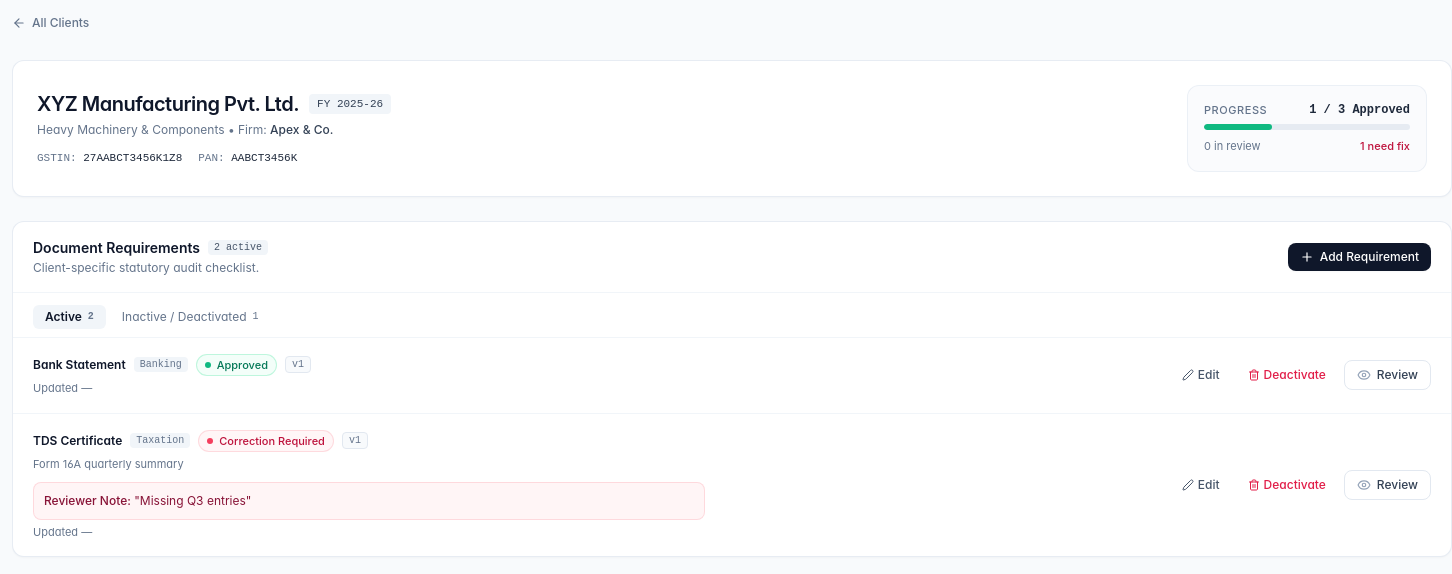
it: Document Requirements UI & Role Enforcement › allows Reviewers to switch to Inactive tab and see reactivate option
Check: the heading "XYZ Manufacturing Pvt. Ltd." is shown, box [37,90,299,118]
# Click Inactive tab
Click the button "Inactive / Deactivated 1" at (190, 316), box [110,304,271,328]
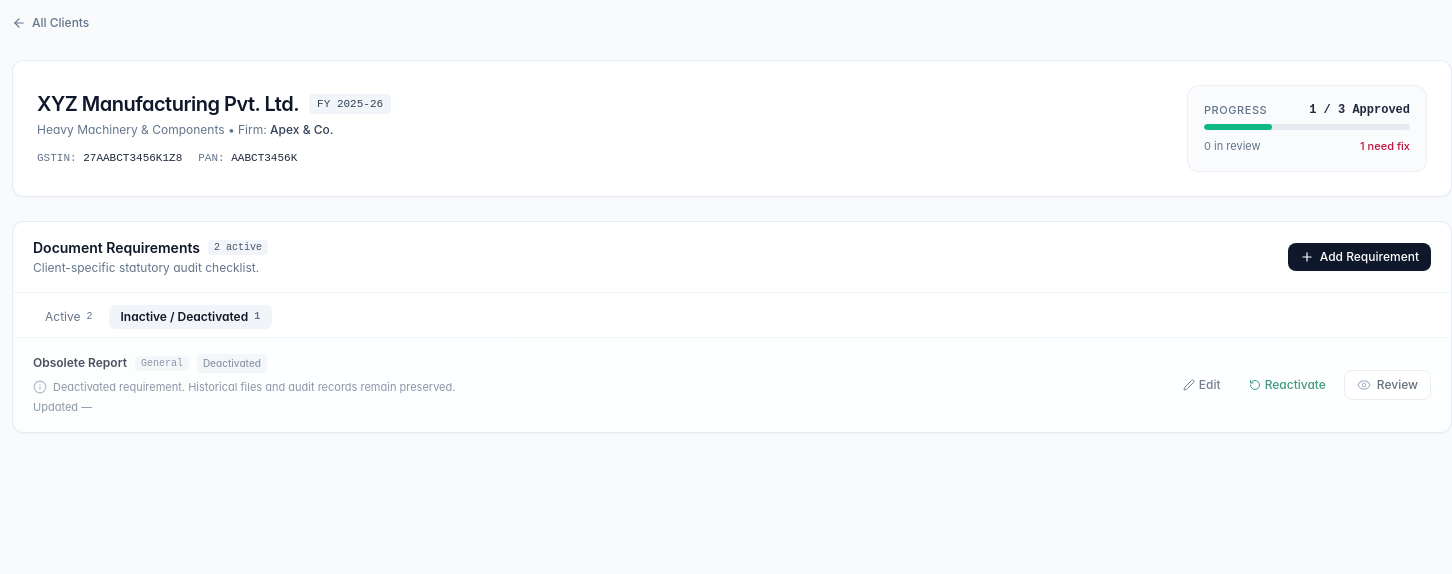
Check: the text "Obsolete Report" is shown, box [33,355,127,371]
Check: the button "Reactivate" is shown, box [1239,372,1336,396]
